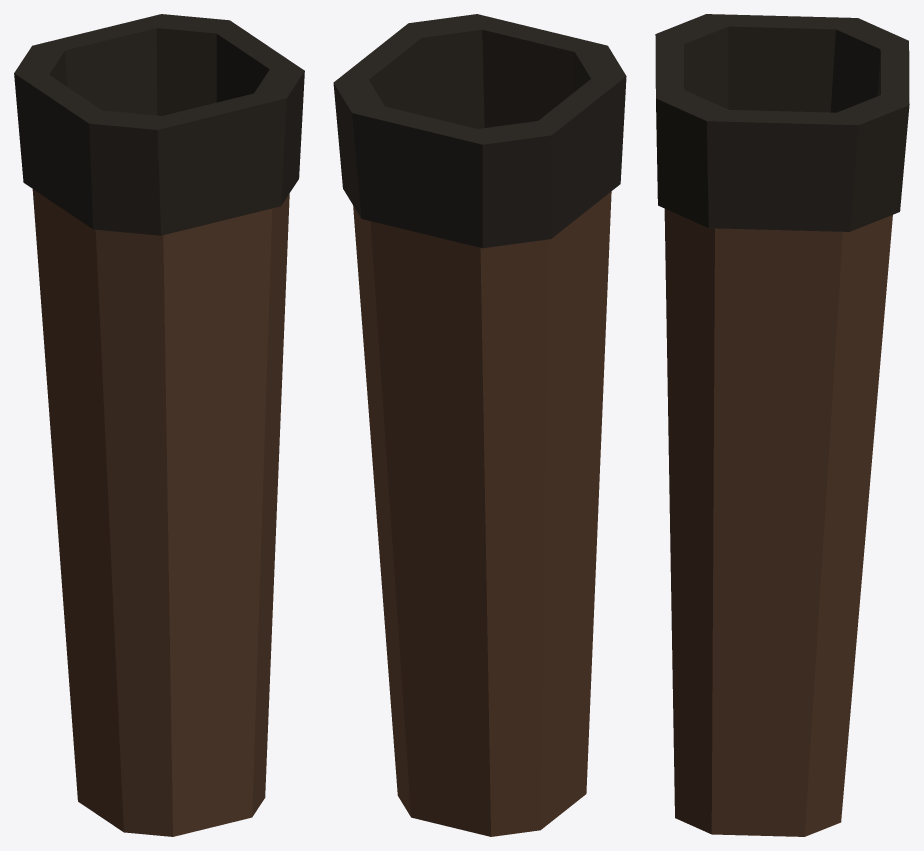
The model's file is Quiver_Brown.glb.
3 views of the same model, side by side, from view 1: azimuth 30°, elevation 25°; view 2: azimuth 150°, elevation 25°; view 3: azimuth 270°, elevation 25° (orthographic).
Visible parts, largest first — view 1: Quiver_Brown; view 2: Quiver_Brown; view 3: Quiver_Brown.
Part boxes in pixels (bbox=[...]): Quiver_Brown: bbox=[14, 14, 304, 836]; Quiver_Brown: bbox=[333, 14, 626, 836]; Quiver_Brown: bbox=[655, 14, 909, 836].
Bounding box in the file's own units: 0.1264 × 0.4043 × 0.1263.
Materials: 1 (1 with a texture image).
